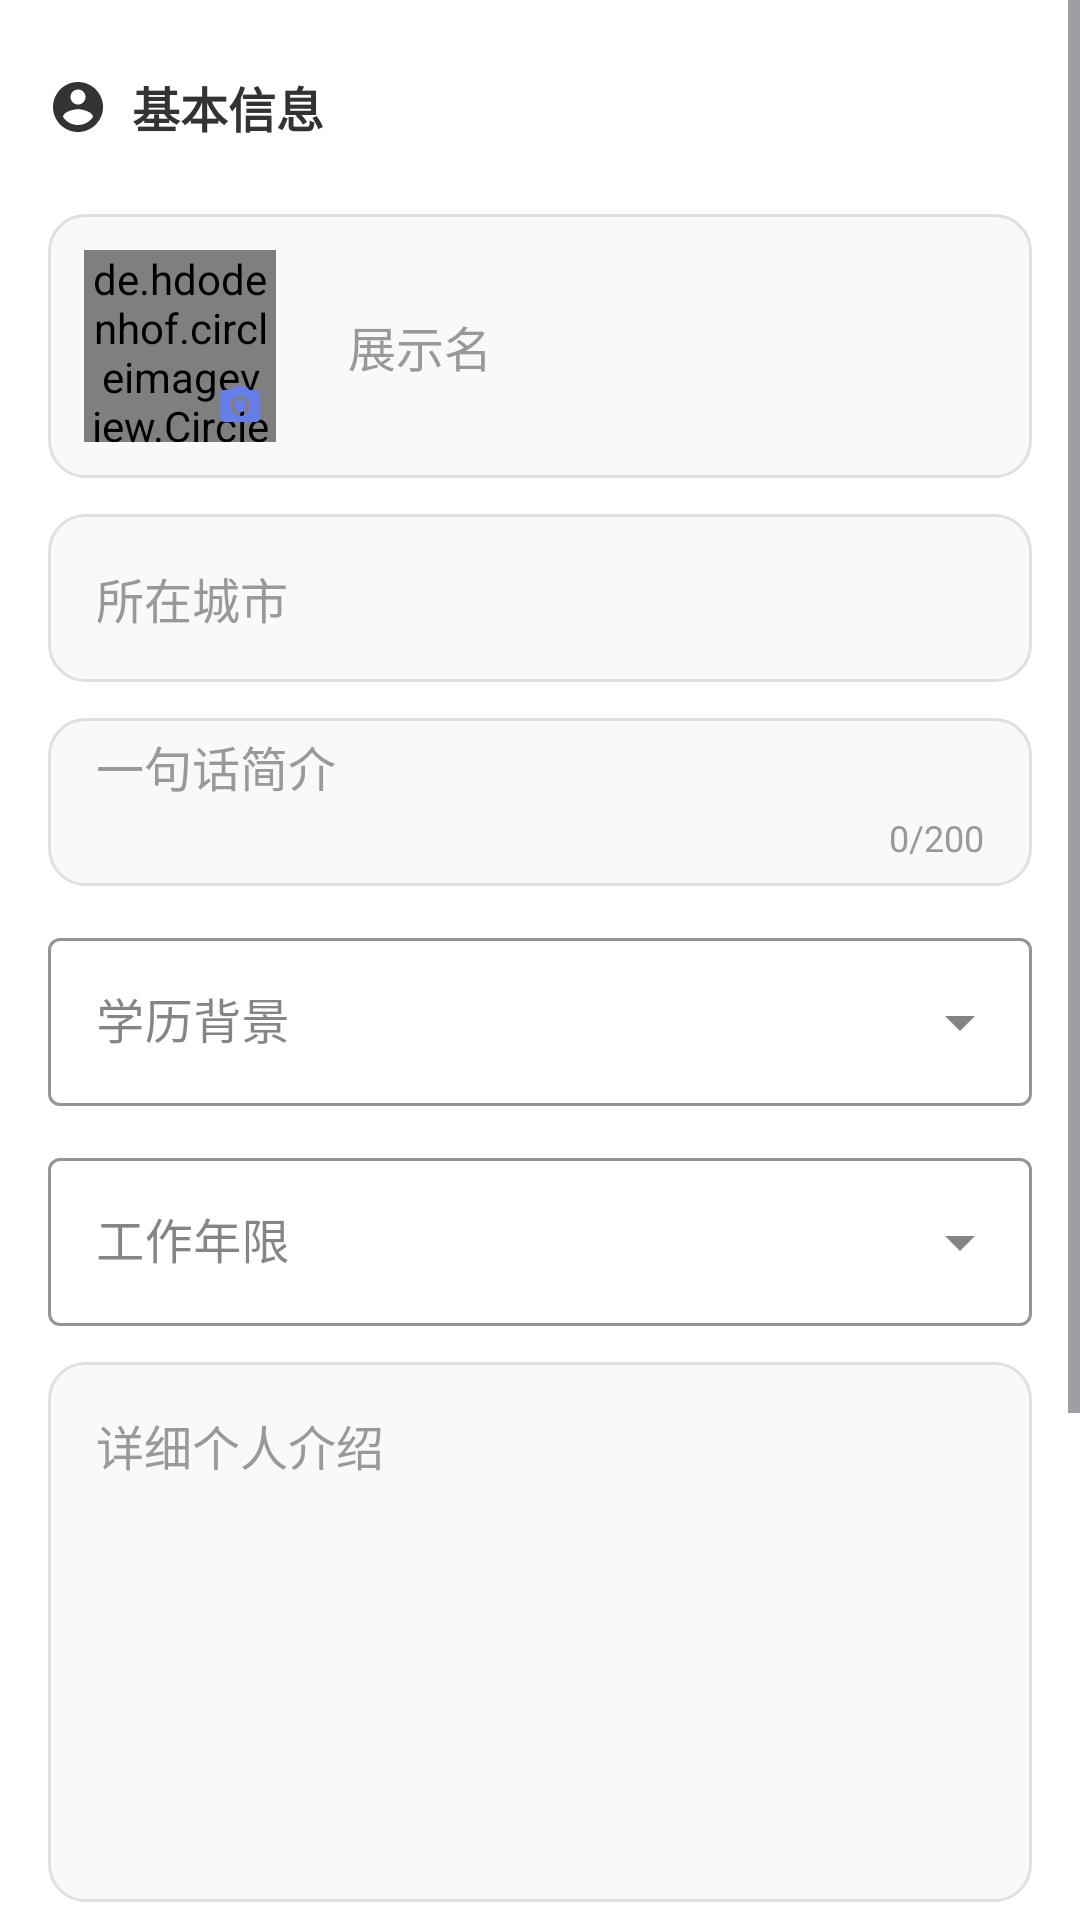

Locate icon controls on the screen. Image size 1080w x 1920h, boxes as BBox(x1, y1, x2, y2).
person: BBox(53, 82, 103, 132)
